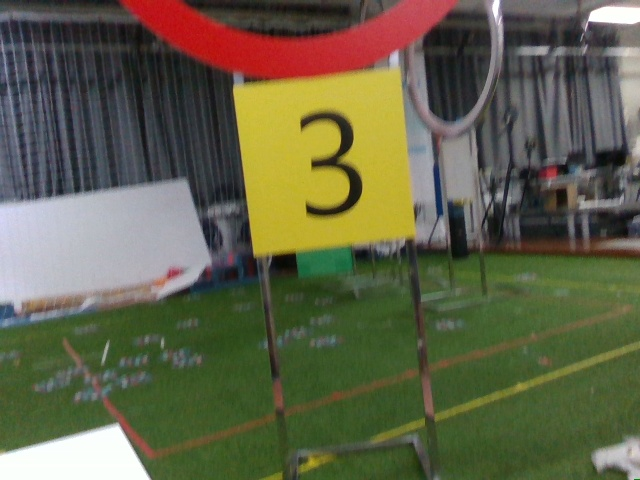target: (240, 73, 404, 236)
